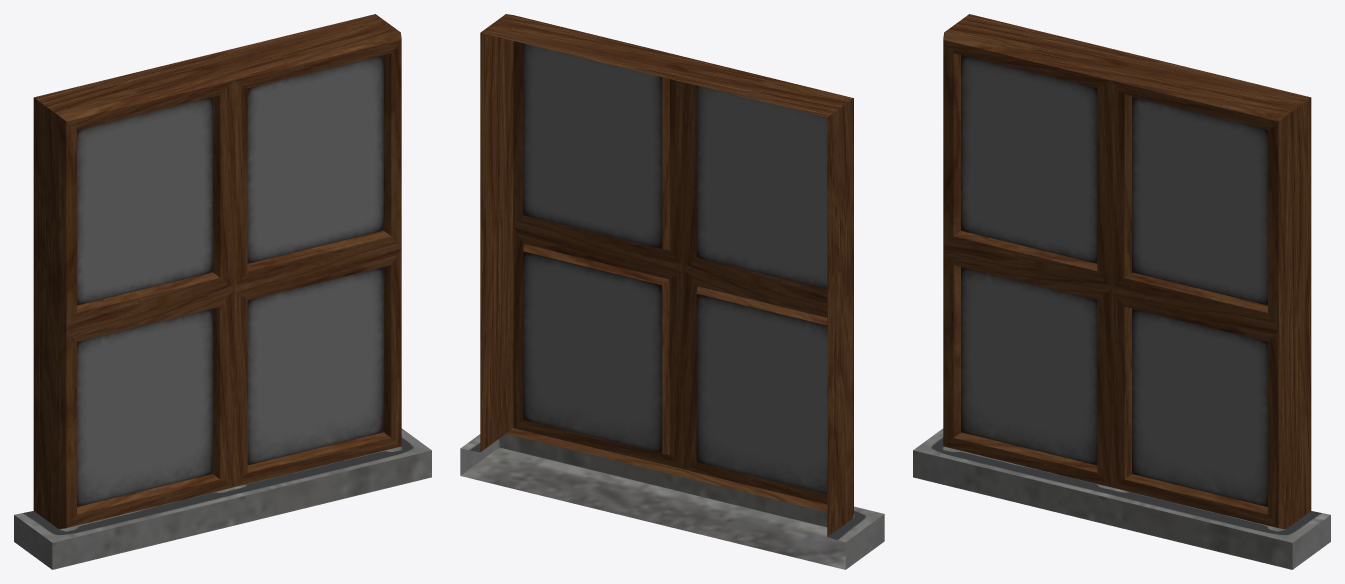
Rendered from Module_Window2.fbx.
The picture shows the model from 3 angles, left to right: view 1: azimuth 30°, elevation 25°; view 2: azimuth 150°, elevation 25°; view 3: azimuth 330°, elevation 25°; orthographic projection.
Visible parts, largest first — view 1: Module_Door_Window2; view 2: Module_Door_Window2; view 3: Module_Door_Window2.
Part boxes in pixels (left/top/right/bottom): Module_Door_Window2: left=14, top=14, right=431, bottom=569; Module_Door_Window2: left=460, top=14, right=884, bottom=569; Module_Door_Window2: left=913, top=14, right=1330, bottom=569.
Size of the model in its own units: 109 by 121 by 19.18.
